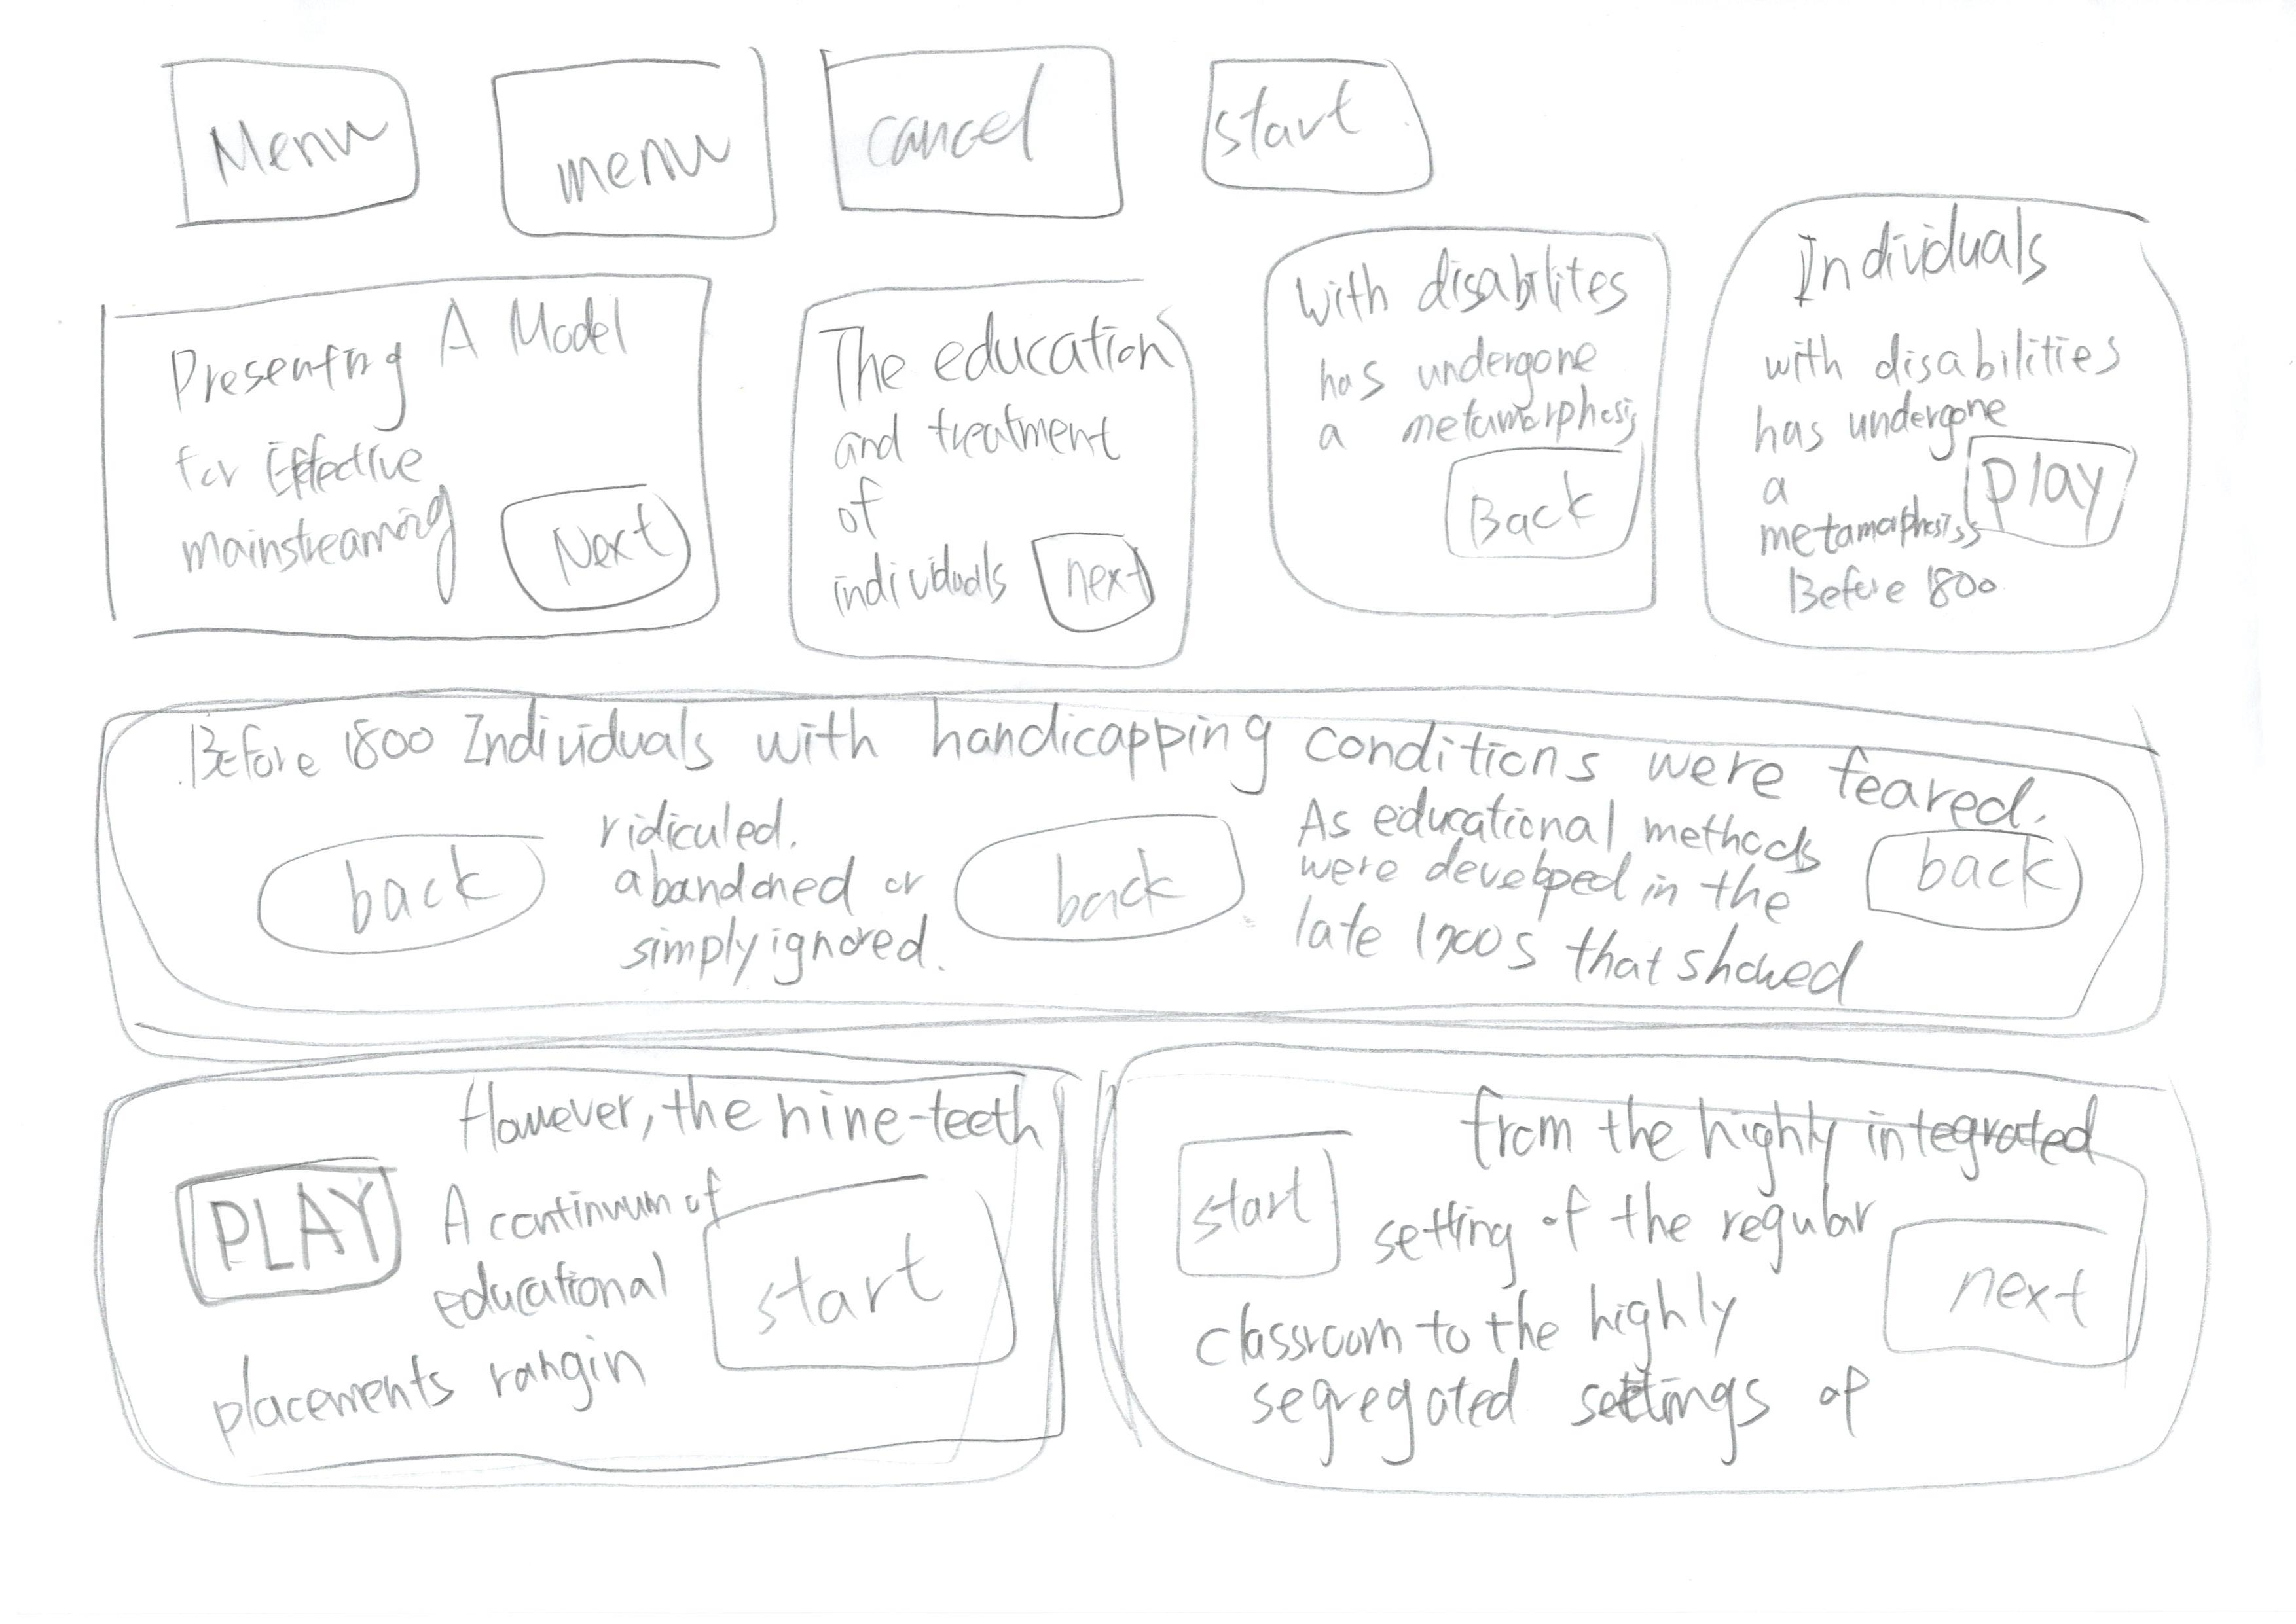back: (928, 787, 1282, 960), (227, 812, 570, 990), (1853, 808, 2138, 963), (1406, 425, 1670, 580)
cancel: (789, 4, 1150, 257)
double: (1046, 1014, 2296, 1534), (58, 1023, 1085, 1501)
menu: (468, 18, 796, 264), (144, 26, 461, 239)
next: (1834, 1195, 2178, 1403), (476, 468, 738, 629), (1013, 499, 1194, 661)
play: (135, 1137, 429, 1327), (1958, 401, 2175, 584)
quadruple: (63, 213, 752, 675), (1660, 158, 2227, 682), (749, 239, 1255, 689), (1195, 213, 1700, 663)
row: (11, 1014, 2296, 1540), (0, 162, 2285, 675), (0, 643, 2275, 1091), (35, 12, 2268, 258)
single: (42, 652, 2296, 1072)
small-title: (178, 687, 1827, 819), (171, 283, 645, 431), (1459, 1083, 2104, 1190), (464, 1072, 1032, 1167), (826, 295, 1148, 417), (1783, 202, 2071, 320), (1296, 246, 1610, 322)
start: (645, 1146, 1046, 1424), (1160, 28, 1487, 220), (1178, 1113, 1389, 1295)
text: (1166, 1278, 1844, 1489), (1387, 1181, 1869, 1476), (1296, 786, 1853, 1009), (411, 1164, 716, 1436), (185, 1322, 689, 1445), (615, 786, 926, 974), (1762, 330, 1967, 610), (163, 410, 464, 599), (1296, 337, 1656, 459), (828, 406, 990, 636), (1797, 327, 2147, 420), (846, 397, 1118, 483)
